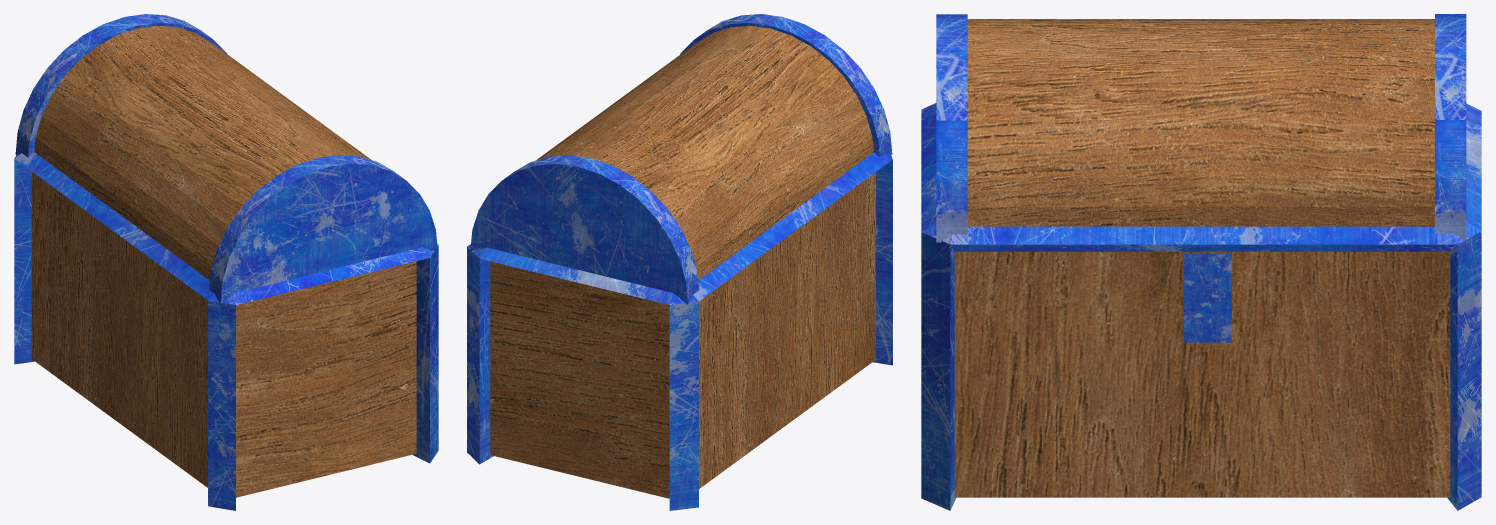
Rendered from ChestImport.fbx.
3 views of the same model, side by side, from view 1: azimuth 30°, elevation 25°; view 2: azimuth 150°, elevation 25°; view 3: azimuth 270°, elevation 25° (orthographic). The views are drawn at different scales.
Visible parts, largest first — view 1: BottomWood1, TopWood1, BottomMetal1, TopMetal1, TopMetal2; view 2: BottomWood1, TopWood1, BottomMetal1, TopMetal2, TopMetal1; view 3: BottomWood1, TopWood1, BottomMetal1, TopMetal1, TopMetal2, BottomMetal2.
Boxes of the visible parts, x1,y1,x2,y2 form: BottomWood1: [31, 172, 416, 497]; TopWood1: [34, 25, 371, 280]; BottomMetal1: [14, 152, 438, 510]; TopMetal1: [209, 155, 437, 303]; TopMetal2: [15, 14, 227, 157]; BottomWood1: [490, 172, 875, 498]; TopWood1: [536, 26, 873, 279]; BottomMetal1: [467, 152, 892, 510]; TopMetal2: [470, 155, 699, 304]; TopMetal1: [680, 14, 892, 157]; BottomWood1: [954, 251, 1450, 497]; TopWood1: [967, 19, 1434, 226]; BottomMetal1: [921, 103, 1481, 510]; TopMetal1: [936, 14, 967, 242]; TopMetal2: [1435, 14, 1466, 241]; BottomMetal2: [1183, 254, 1231, 342].
Size of the model in its own units: 230 by 302 by 375.
Materials: 2 (2 with a texture image).
